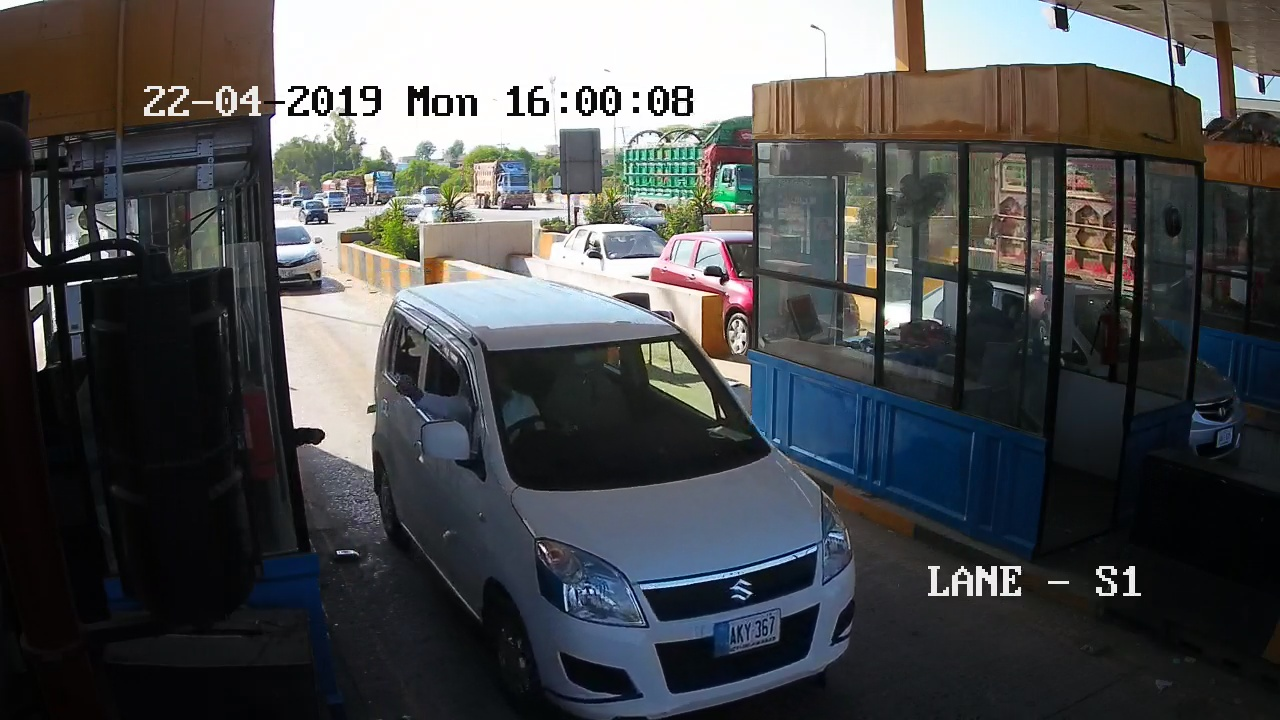car: (369, 283, 869, 720), (269, 220, 321, 294)
